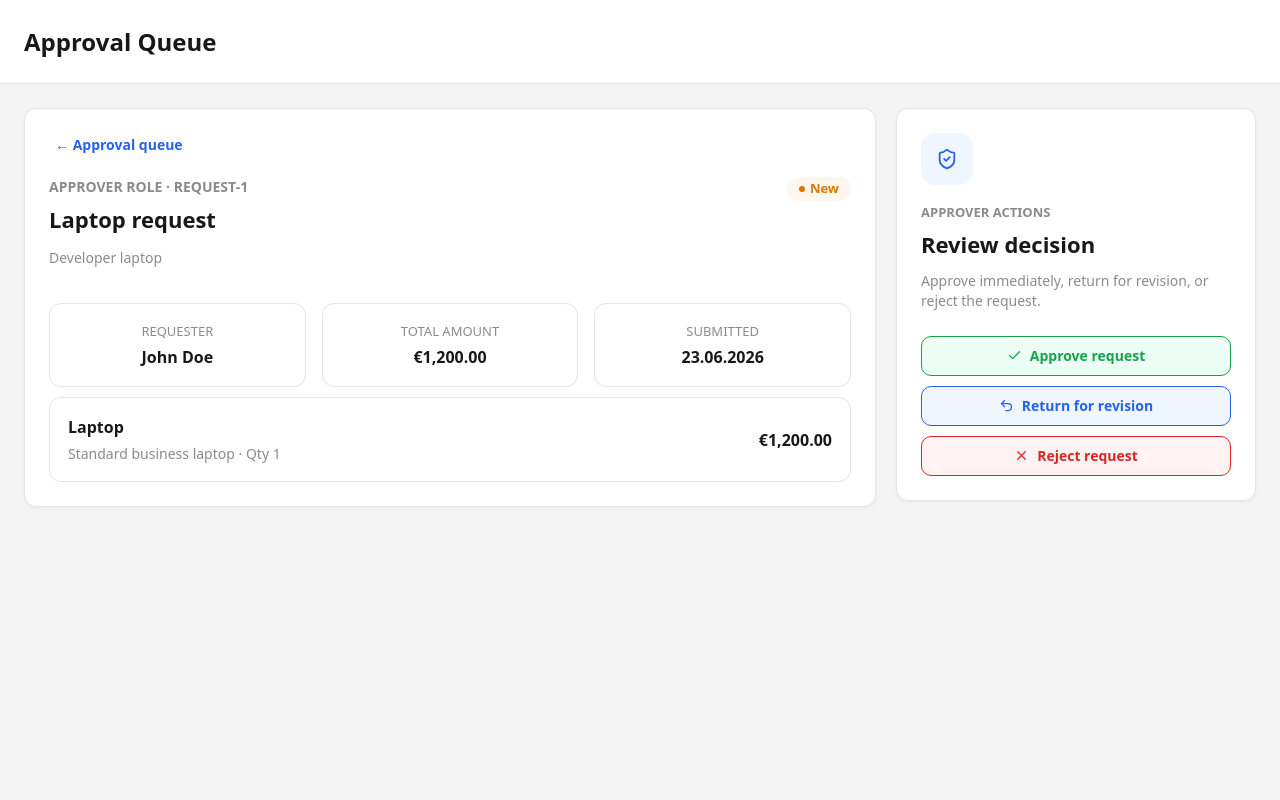
Test: ApprovalView › shows decision submission errors
Click the button "Approve request" at (1076, 356), box [921,336,1231,376]
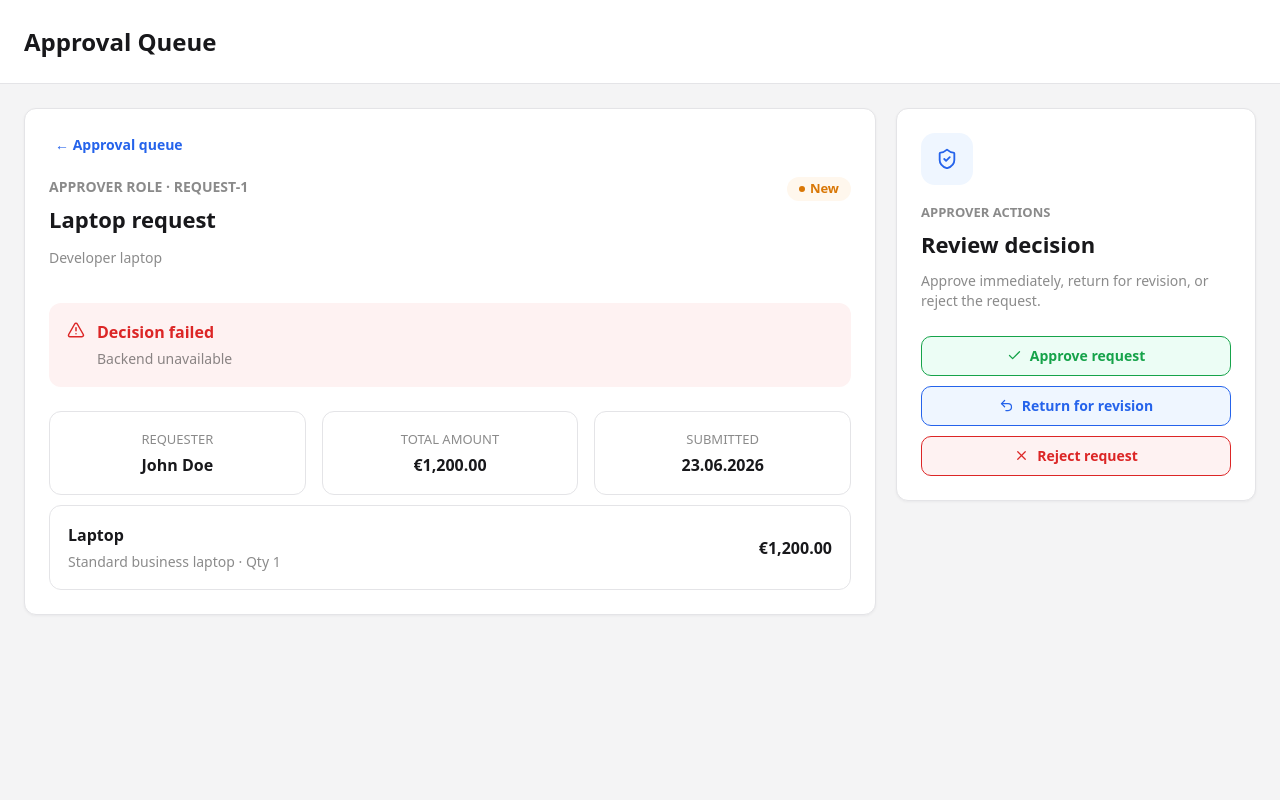
Expected: the text "Decision failed" is shown, [97,321,232,343]
Expected: the text "Backend unavailable" is shown, [97,349,232,368]
